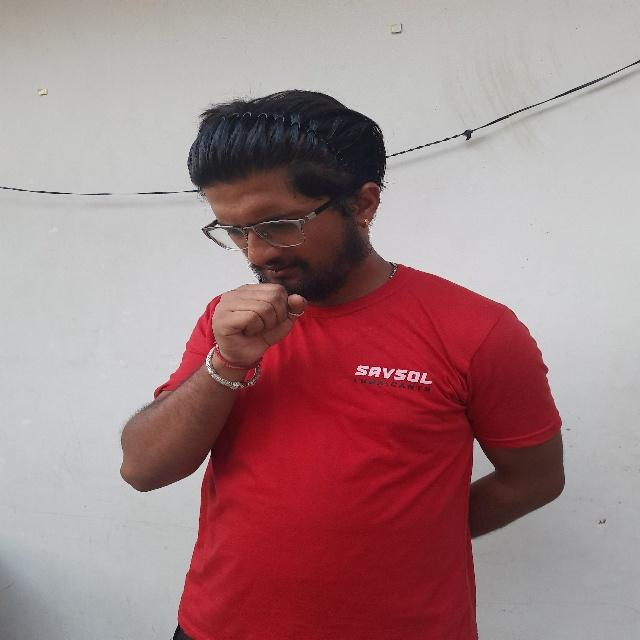Fist Mouth: (170, 103, 384, 396)
